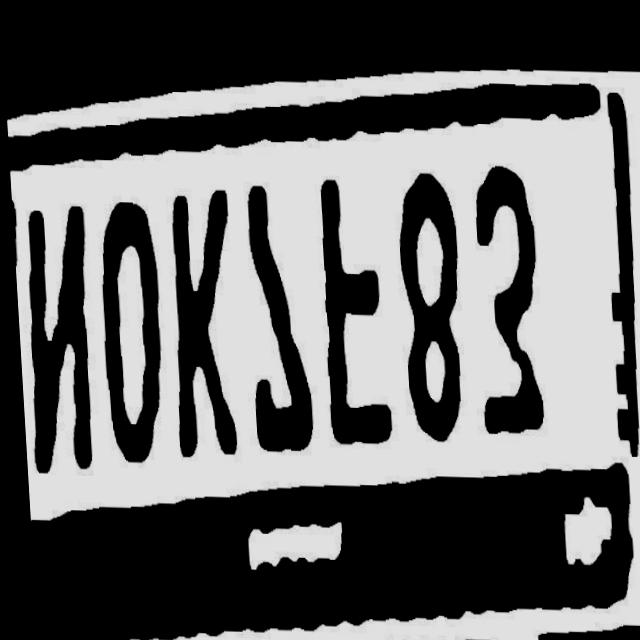3: (464, 157, 545, 449)
7: (235, 176, 309, 451)
8: (393, 168, 470, 447)
f: (312, 181, 389, 448)
k: (160, 179, 237, 461)
n: (10, 204, 98, 483)
o: (92, 198, 168, 473)
